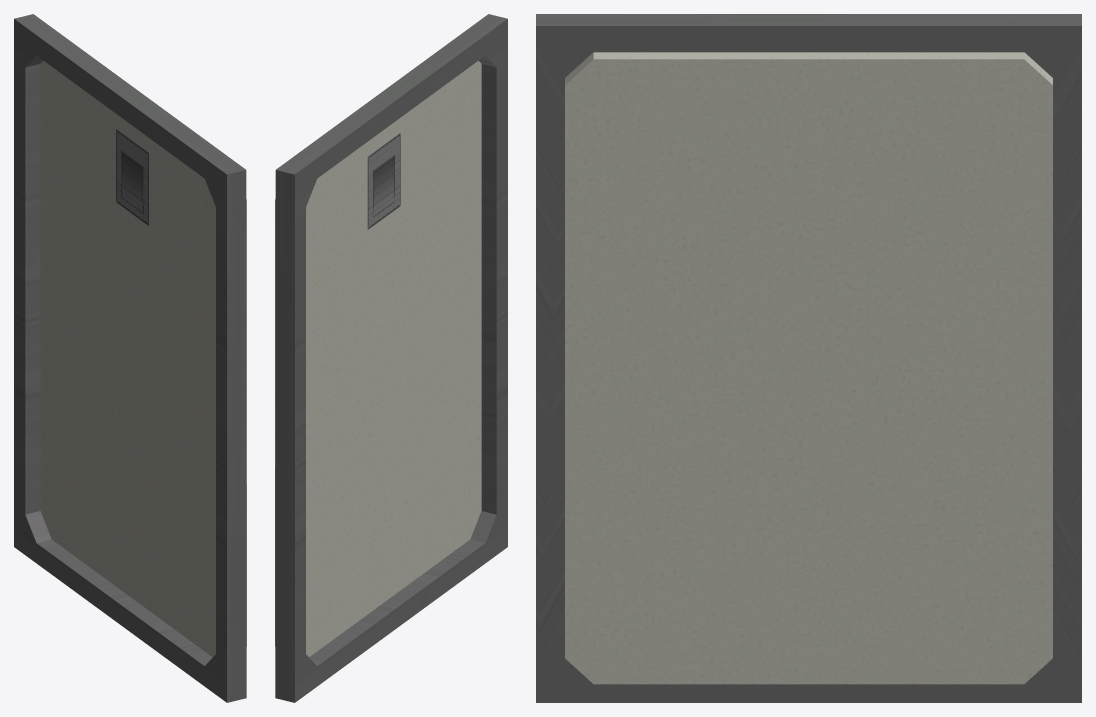
File: hjk_crash_airplane_cabinet_door_med_LOD0.obj
The picture shows the model from 3 angles, left to right: view 1: azimuth 30°, elevation 25°; view 2: azimuth 150°, elevation 25°; view 3: azimuth 270°, elevation 25°; orthographic projection. The views are drawn at different scales.
Parts seen in each view (by area): view 1: hjk_interior_plastic_tile_lwr_lvl, hjk_metal_trim, hjk_cabinet_pull; view 2: hjk_interior_plastic_tile_lwr_lvl, hjk_metal_trim, hjk_cabinet_pull; view 3: hjk_interior_plastic_tile_lwr_lvl, hjk_metal_trim.
Part boxes in pixels (x1,y1,x2,y2): hjk_interior_plastic_tile_lwr_lvl: (40,61,246,656); hjk_metal_trim: (14,14,246,702); hjk_cabinet_pull: (116,129,148,225); hjk_interior_plastic_tile_lwr_lvl: (275,61,481,656); hjk_metal_trim: (275,14,507,702); hjk_cabinet_pull: (367,133,400,229); hjk_interior_plastic_tile_lwr_lvl: (565,52,1052,684); hjk_metal_trim: (536,14,1081,702).
Bounding box in the file's own units: 4.08 × 66.04 × 48.26.
